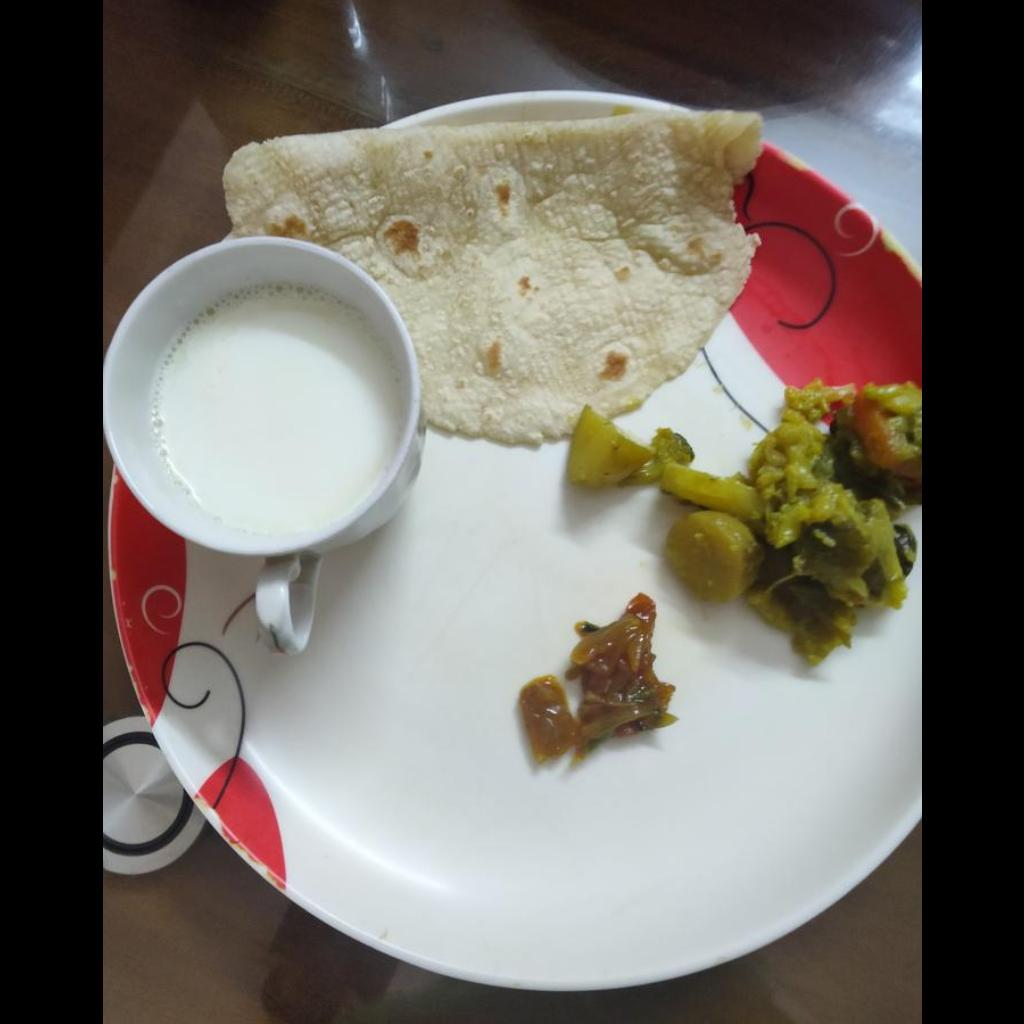achar: (520, 593, 673, 762)
milk: (152, 286, 401, 533)
ruti: (219, 114, 765, 442)
vegetable: (569, 388, 920, 659)
